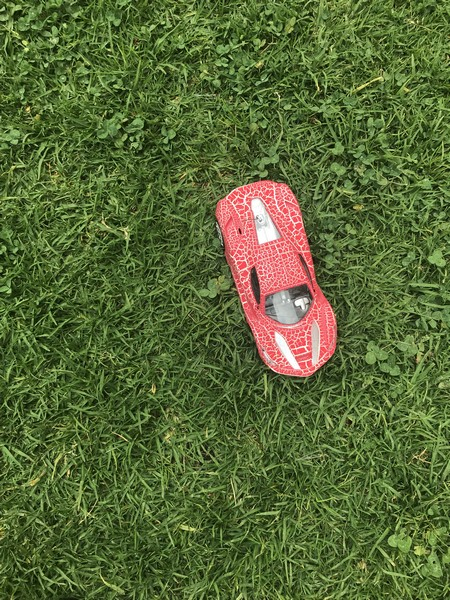RC: (214, 178, 340, 379)
